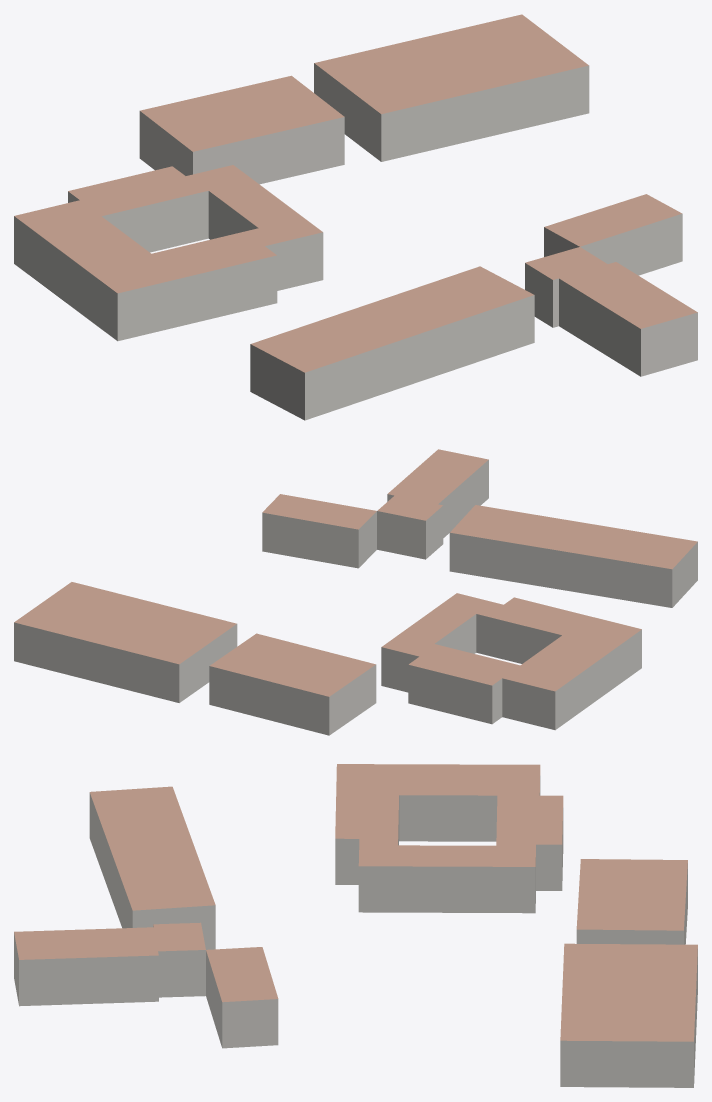
Rendered from gridID_8.dae.
3 renders of one model, top to bottom at view 1: azimuth 30°, elevation 25°; view 2: azimuth 150°, elevation 25°; view 3: azimuth 270°, elevation 25°, orthographic. The views are drawn at different scales.
Visible parts, largest first — view 1: model_gridID_8_r3393757, model_gridID_8_w116940052, model_gridID_8_w389865172, model_gridID_8_w116940065, model_gridID_8_w389865184, model_gridID_8_w389865168, model_gridID_8_w389865177; view 2: model_gridID_8_r3393757, model_gridID_8_w116940052, model_gridID_8_w389865172, model_gridID_8_w116940065, model_gridID_8_w389865168, model_gridID_8_w389865184, model_gridID_8_w389865177; view 3: model_gridID_8_r3393757, model_gridID_8_w116940052, model_gridID_8_w389865172, model_gridID_8_w389865184, model_gridID_8_w116940065, model_gridID_8_w389865168, model_gridID_8_w389865177.
Boxes of the visible parts, x1,y1,x2,y2 form: model_gridID_8_r3393757: (14, 165, 323, 341); model_gridID_8_w116940052: (314, 14, 589, 161); model_gridID_8_w389865172: (250, 266, 534, 420); model_gridID_8_w116940065: (139, 75, 344, 184); model_gridID_8_w389865184: (559, 262, 697, 376); model_gridID_8_w389865168: (544, 194, 682, 275); model_gridID_8_w389865177: (525, 247, 607, 327); model_gridID_8_r3393757: (381, 593, 641, 730); model_gridID_8_w116940052: (14, 582, 237, 702); model_gridID_8_w389865172: (449, 505, 697, 607); model_gridID_8_w116940065: (209, 633, 376, 735); model_gridID_8_w389865168: (262, 494, 376, 568); model_gridID_8_w389865184: (387, 449, 488, 537); model_gridID_8_w389865177: (377, 495, 443, 559); model_gridID_8_r3393757: (335, 764, 563, 913); model_gridID_8_w116940052: (560, 943, 697, 1087); model_gridID_8_w389865172: (89, 786, 215, 949); model_gridID_8_w389865184: (14, 927, 158, 1006); model_gridID_8_w116940065: (576, 859, 687, 944); model_gridID_8_w389865168: (206, 947, 278, 1048); model_gridID_8_w389865177: (153, 922, 205, 997).
Size of the model in its own units: 96.67 by 101 by 7.5.
